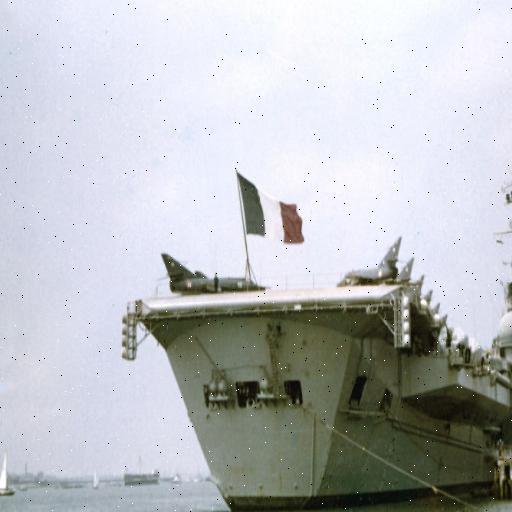Portanaves: (130, 129, 512, 512)
